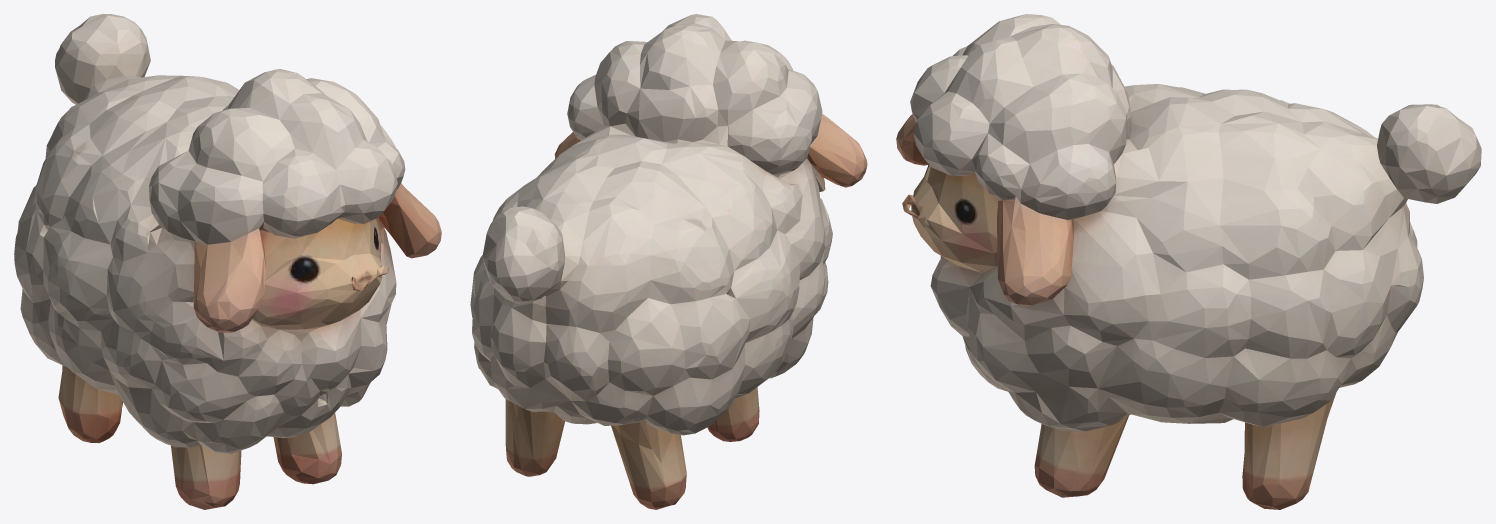
File: sheep.glb
3 views of the same model, side by side, from view 1: azimuth 30°, elevation 25°; view 2: azimuth 150°, elevation 25°; view 3: azimuth 270°, elevation 25° (orthographic). The views are drawn at different scales.
Visible parts, largest first — view 1: geometry_0; view 2: geometry_0; view 3: geometry_0.
Boxes of the visible parts, box(x1,y1,x2,y2) form: geometry_0: box(14, 14, 441, 509); geometry_0: box(470, 14, 867, 509); geometry_0: box(896, 14, 1481, 509).
Bounding box in the file's own units: 0.6517 × 0.8436 × 0.9988.
Materials: 1 (1 with a texture image).
